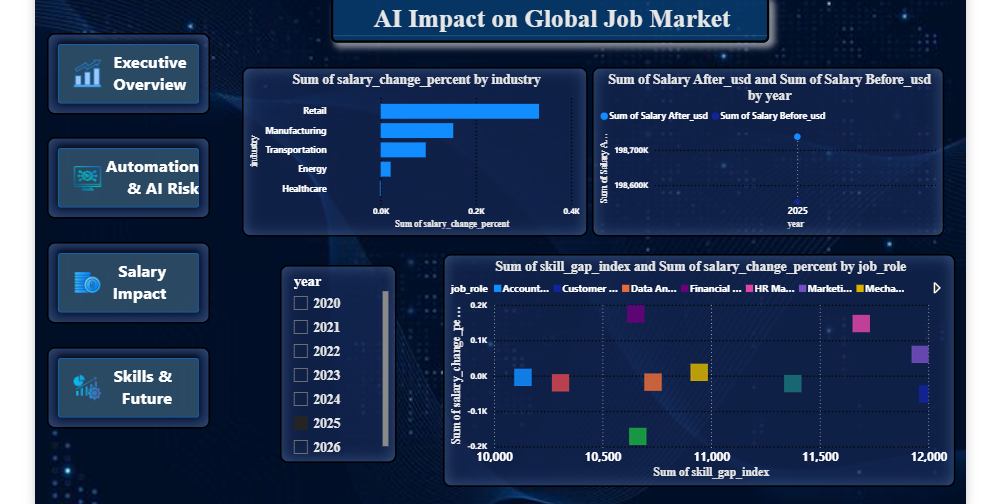

The page's visual inventory and layout, read from the dashboard file:
{"tool":"powerbi","page":{"name":"Salary Imapct","canvas":[1280,720],"ordinal":2},"visuals":[{"type":"shape","box":[16,64,224,112],"z":0},{"type":"textbox","box":[407,13.9,601.7,64.3],"z":1000},{"type":"barChart","fields":{"Category":["ai_job_replacement_2020_2026.industry"],"Y":["Sum(ai_job_replacement_2020_2026.salary_change_percent)"]},"box":[283.9,110.9,475.4,233.5],"z":2000},{"type":"areaChart","fields":{"Category":["ai_job_replacement_2020_2026.year"],"Y":["Sum(ai_job_replacement_2020_2026.Salary After_usd)","Sum(ai_job_replacement_2020_2026.Salary Before_usd)"]},"box":[766,110.9,483.8,233.5],"z":3000},{"type":"scatterChart","fields":{"X":["Sum(ai_job_replacement_2020_2026.skill_gap_index)"],"Y":["Sum(ai_job_replacement_2020_2026.salary_change_percent)"],"Series":["ai_job_replacement_2020_2026.job_role"]},"box":[560,368,704,320],"z":4000},{"type":"shape","box":[16,496,224,112],"z":5000},{"type":"shape","box":[16,352,224,112],"z":6000},{"type":"shape","box":[16,208,224,112],"z":7000},{"type":"slicer","fields":{"Values":["ai_job_replacement_2020_2026.year"]},"box":[336,384,160,272],"z":8000},{"type":"image","box":[48,96,48,48],"z":13000},{"type":"image","box":[48,240,48,48],"z":14000},{"type":"image","box":[48,384,48,48],"z":15000},{"type":"image","box":[48,528,48,48],"z":16000}]}

Visuals, with their boxes on the page's 1280x720 design canvas (x1, y1, x2, y2). These are canvas units, not pixel positions in the 996x504 screenshot, which may show the page scaled, cropped or inside an application window:
shape: region(16, 64, 240, 176)
textbox: region(407, 14, 1009, 78)
barChart - ai_job_replacement_2020_2026.industry x Sum(ai_job_replacement_2020_2026.salary_change_percent): region(284, 111, 759, 344)
areaChart - ai_job_replacement_2020_2026.year x Sum(ai_job_replacement_2020_2026.Salary After_usd): region(766, 111, 1250, 344)
scatterChart - Sum(ai_job_replacement_2020_2026.skill_gap_index) x Sum(ai_job_replacement_2020_2026.salary_change_percent): region(560, 368, 1264, 688)
shape: region(16, 496, 240, 608)
shape: region(16, 352, 240, 464)
shape: region(16, 208, 240, 320)
slicer - ai_job_replacement_2020_2026.year: region(336, 384, 496, 656)
image: region(48, 96, 96, 144)
image: region(48, 240, 96, 288)
image: region(48, 384, 96, 432)
image: region(48, 528, 96, 576)
